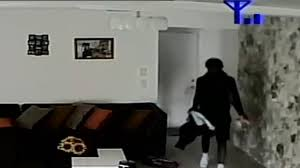Person: (190, 56, 250, 168)
